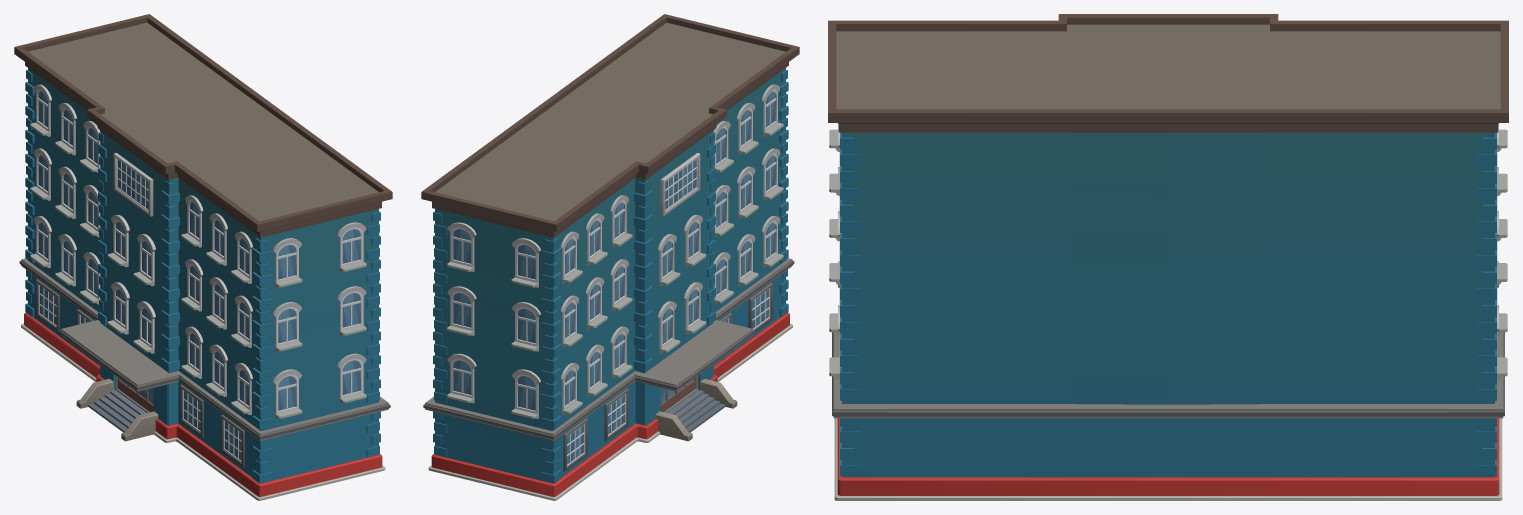
File: Building_6_C.fbx
The picture shows the model from 3 angles, left to right: view 1: azimuth 30°, elevation 25°; view 2: azimuth 150°, elevation 25°; view 3: azimuth 270°, elevation 25°; orthographic projection. The views are drawn at different scales.
Visible parts, largest first — view 1: Building_6_C; view 2: Building_6_C; view 3: Building_6_C.
Part boxes in pixels (x1,y1,x2,y2): Building_6_C: (14,14,392,500); Building_6_C: (421,14,799,500); Building_6_C: (828,14,1508,500).
Size of the model in its own units: 935 by 1440 by 2273.
